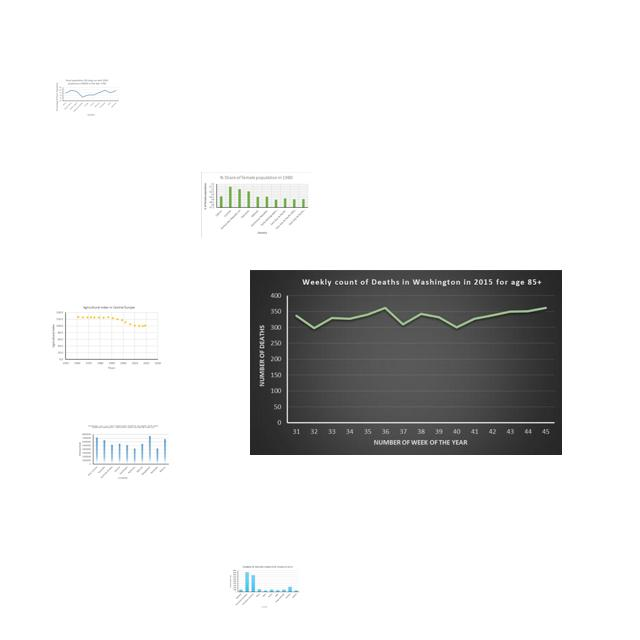Graph: (250, 270, 562, 455), (49, 303, 163, 370), (201, 172, 311, 238), (76, 424, 171, 480), (228, 564, 301, 610), (54, 78, 120, 117)
